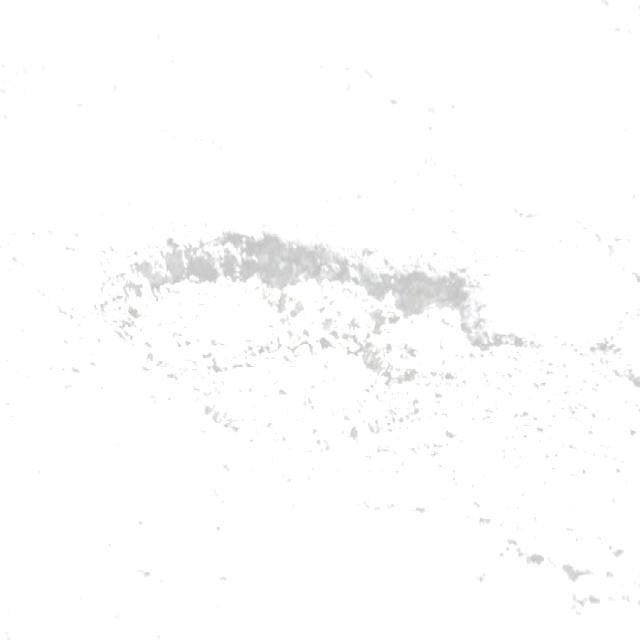Pothole: (51, 179, 640, 631)
